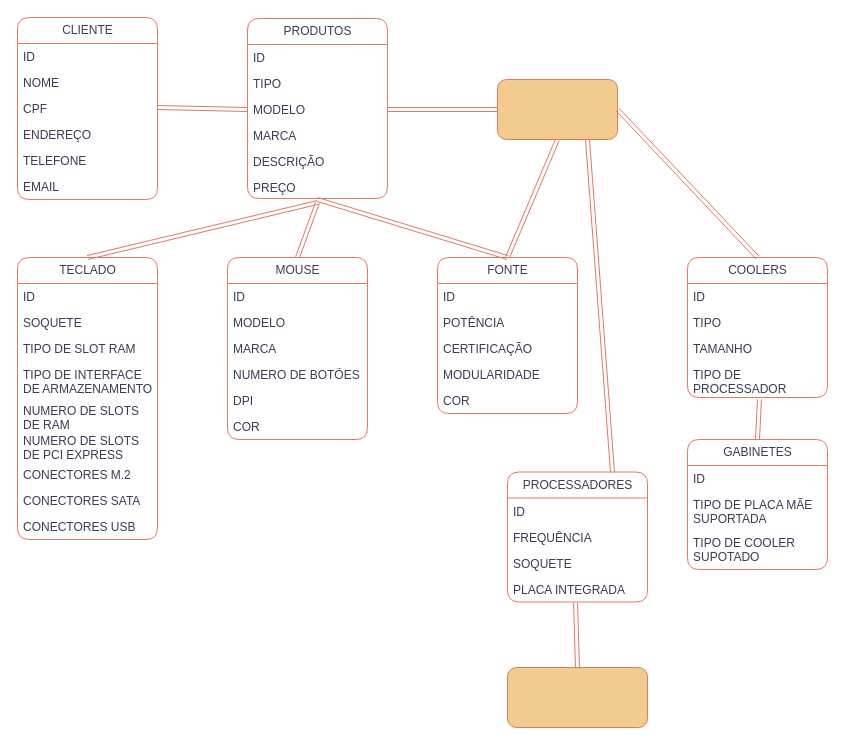
The diagram is 845 pixels wide and 745 high, and some of its shapes have lost their labels. Here are the shapes that lost their labels. From the top down, the centre of each, then its label:
At (x=557, y=109): "COMPONENTE".
At (x=577, y=697): "PLACA MÃE".
